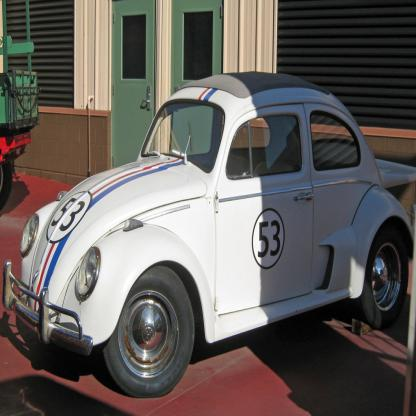Car: (2, 71, 414, 398)
